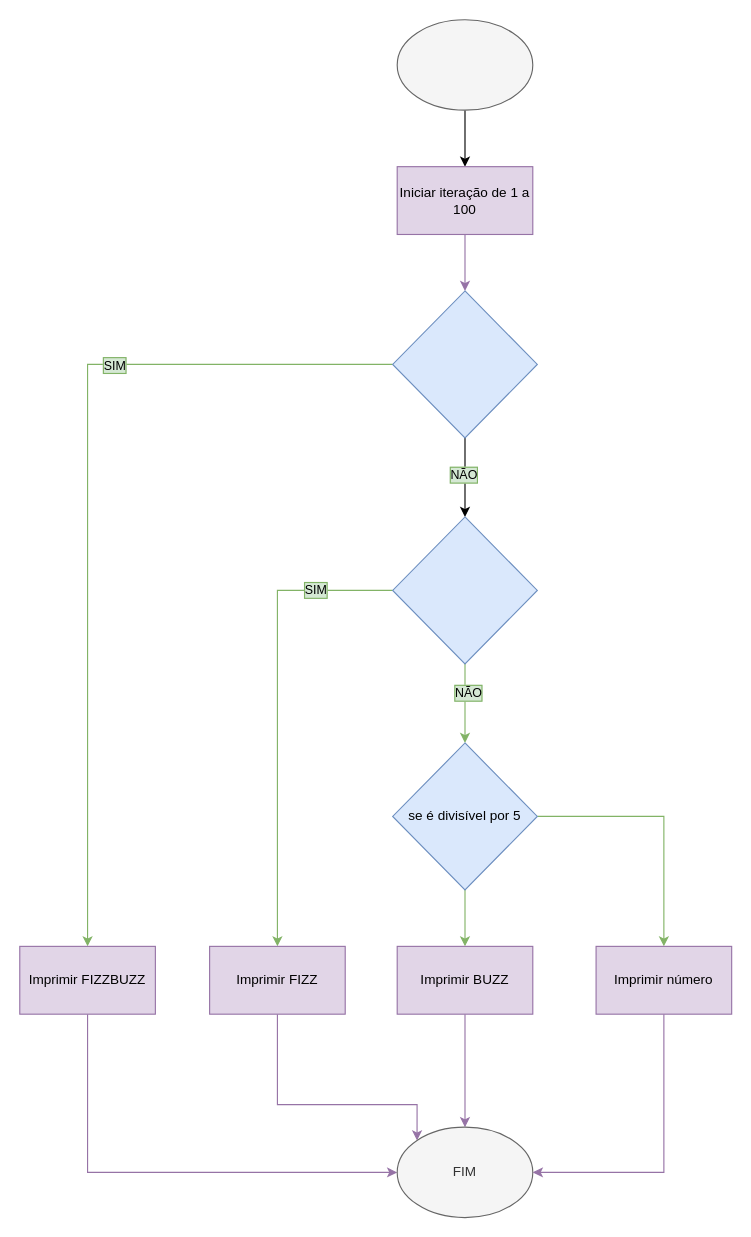
Image size: 751x1237. Some labels were removed from this diagram. The shapes that lost their labels are listed below. From the top down, each one's box as (x1, y1, x2, y2) in pixels, then its label:
(396, 19, 533, 110): Inicio
(392, 290, 537, 438): se é divisível por 3 e 5
(392, 516, 537, 664): se é divisível por 3
